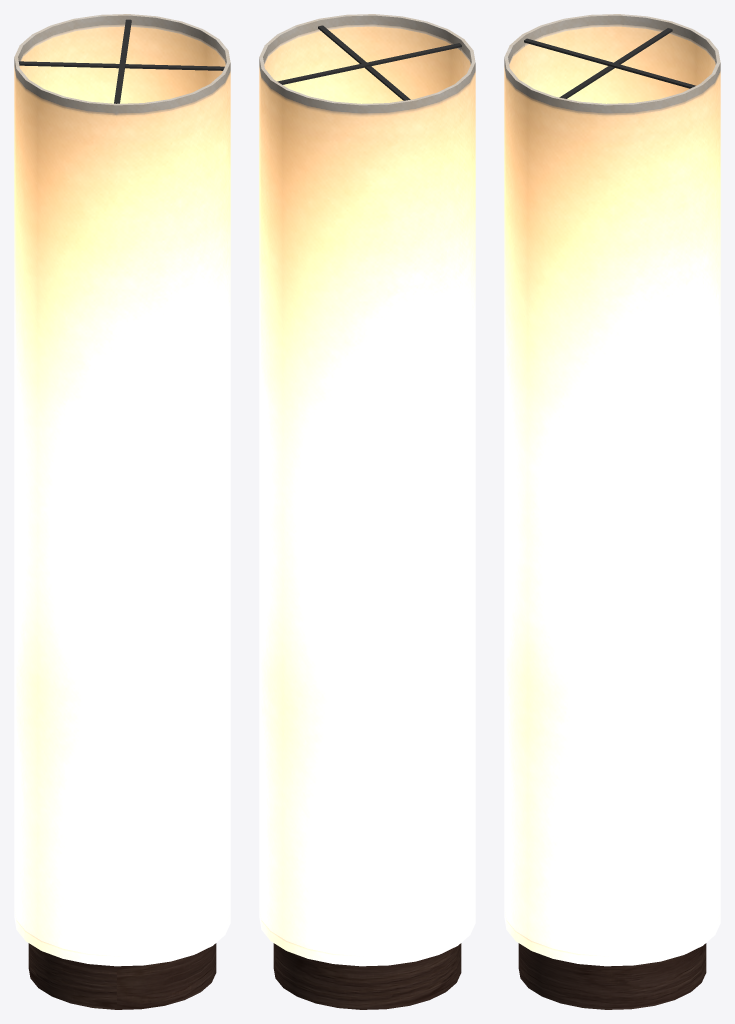
File: dark_floor_light_tall.fbx
3 renders of one model, left to right at view 1: azimuth 30°, elevation 25°; view 2: azimuth 150°, elevation 25°; view 3: azimuth 270°, elevation 25°, orthographic.
Parts seen in each view (by area): view 1: floor lamp big.012; view 2: floor lamp big.012; view 3: floor lamp big.012.
Part boxes in pixels (x1,y1,x2,y2): floor lamp big.012: [14, 14, 230, 1009]; floor lamp big.012: [259, 14, 475, 1009]; floor lamp big.012: [504, 14, 720, 1009].
Bounding box in the file's own units: 29.88 × 139 × 29.88.
